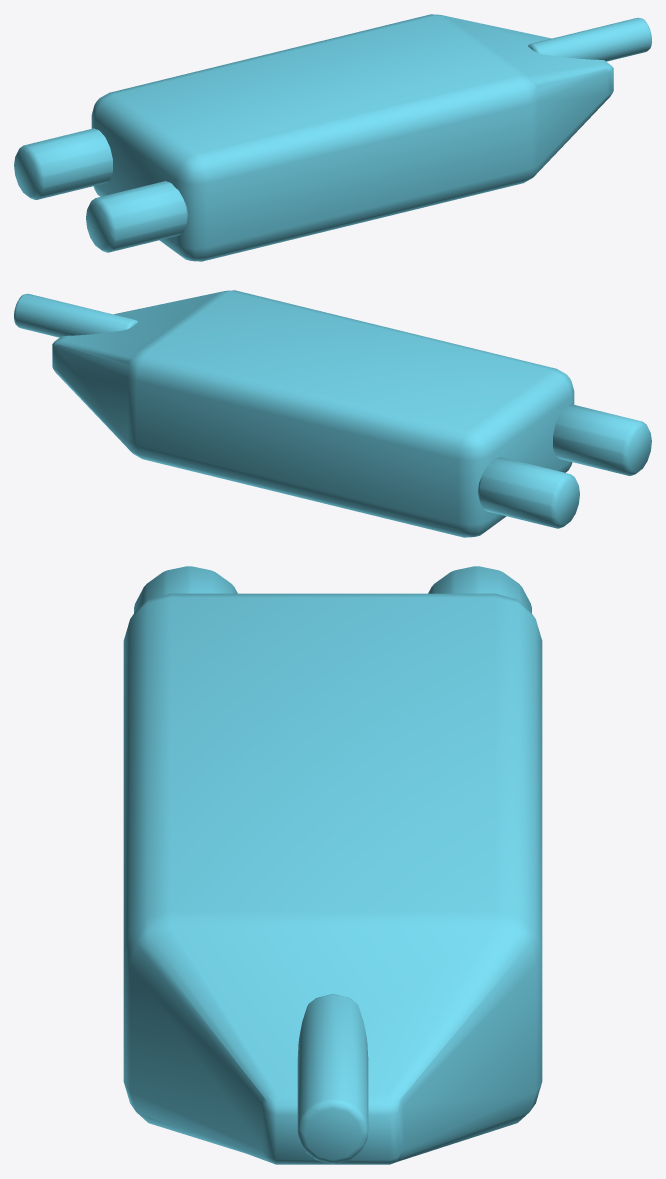
The model's file is NaveA1.fbx.
3 renders of one model, top to bottom at view 1: azimuth 30°, elevation 25°; view 2: azimuth 150°, elevation 25°; view 3: azimuth 270°, elevation 25°, orthographic. The views are drawn at different scales.
Visible parts, largest first — view 1: NaveA1; view 2: NaveA1; view 3: NaveA1.
Boxes of the visible parts, x1=… form: NaveA1: x1=14, y1=14, x2=651, y2=261; NaveA1: x1=14, y1=290, x2=651, y2=537; NaveA1: x1=123, y1=566, x2=542, y2=1164.
Bounding box in the file's own units: 515 × 90 × 160.
